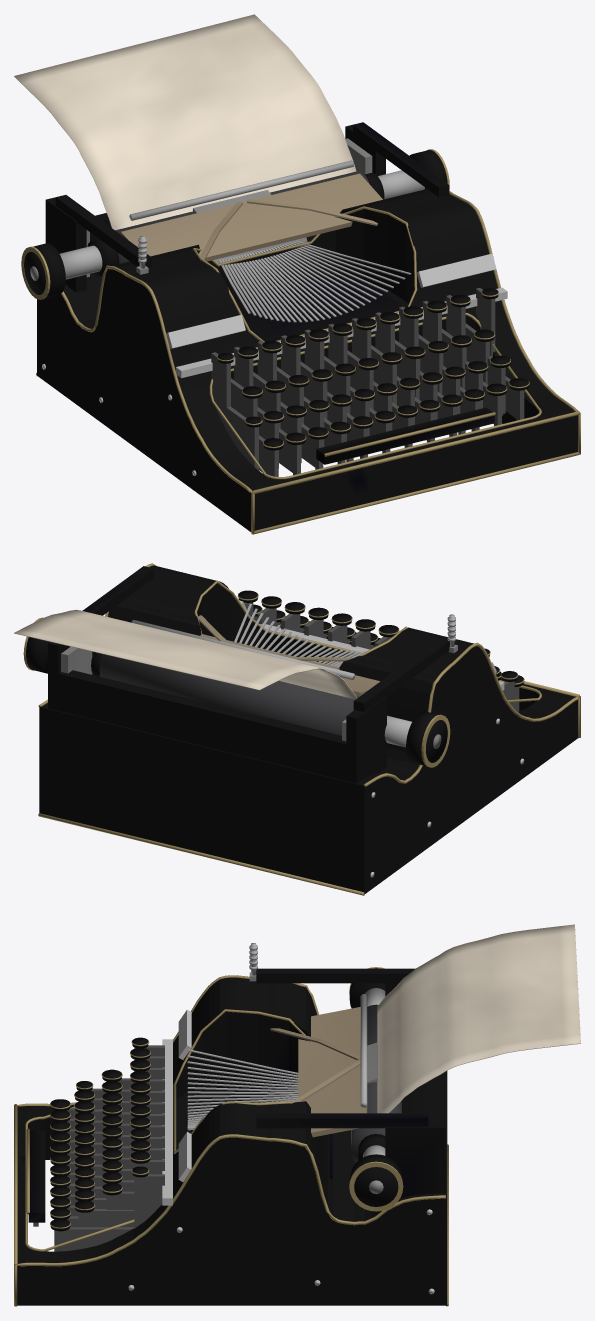
File: typewriter-opus.glb
The picture shows the model from 3 angles, top to bottom: view 1: azimuth 30°, elevation 25°; view 2: azimuth 150°, elevation 25°; view 3: azimuth 270°, elevation 25°; orthographic projection.
Parts seen in each view (by area): view 1: bail_arm+1, bail_rod; view 2: bail_arm+1, bail_rod; view 3: bail_arm+1, bail_rod.
Boxes of the visible parts, left/top/right/bottom form: bail_arm+1: left=14, top=14, right=577, bottom=531; bail_rod: left=21, top=138, right=580, bottom=534; bail_arm+1: left=14, top=565, right=578, bottom=894; bail_rod: left=23, top=563, right=580, bottom=895; bail_arm+1: left=17, top=924, right=580, bottom=1305; bail_rod: left=14, top=943, right=448, bottom=1306.
Size of the model in its own units: 0.8201 by 0.4731 by 1.
